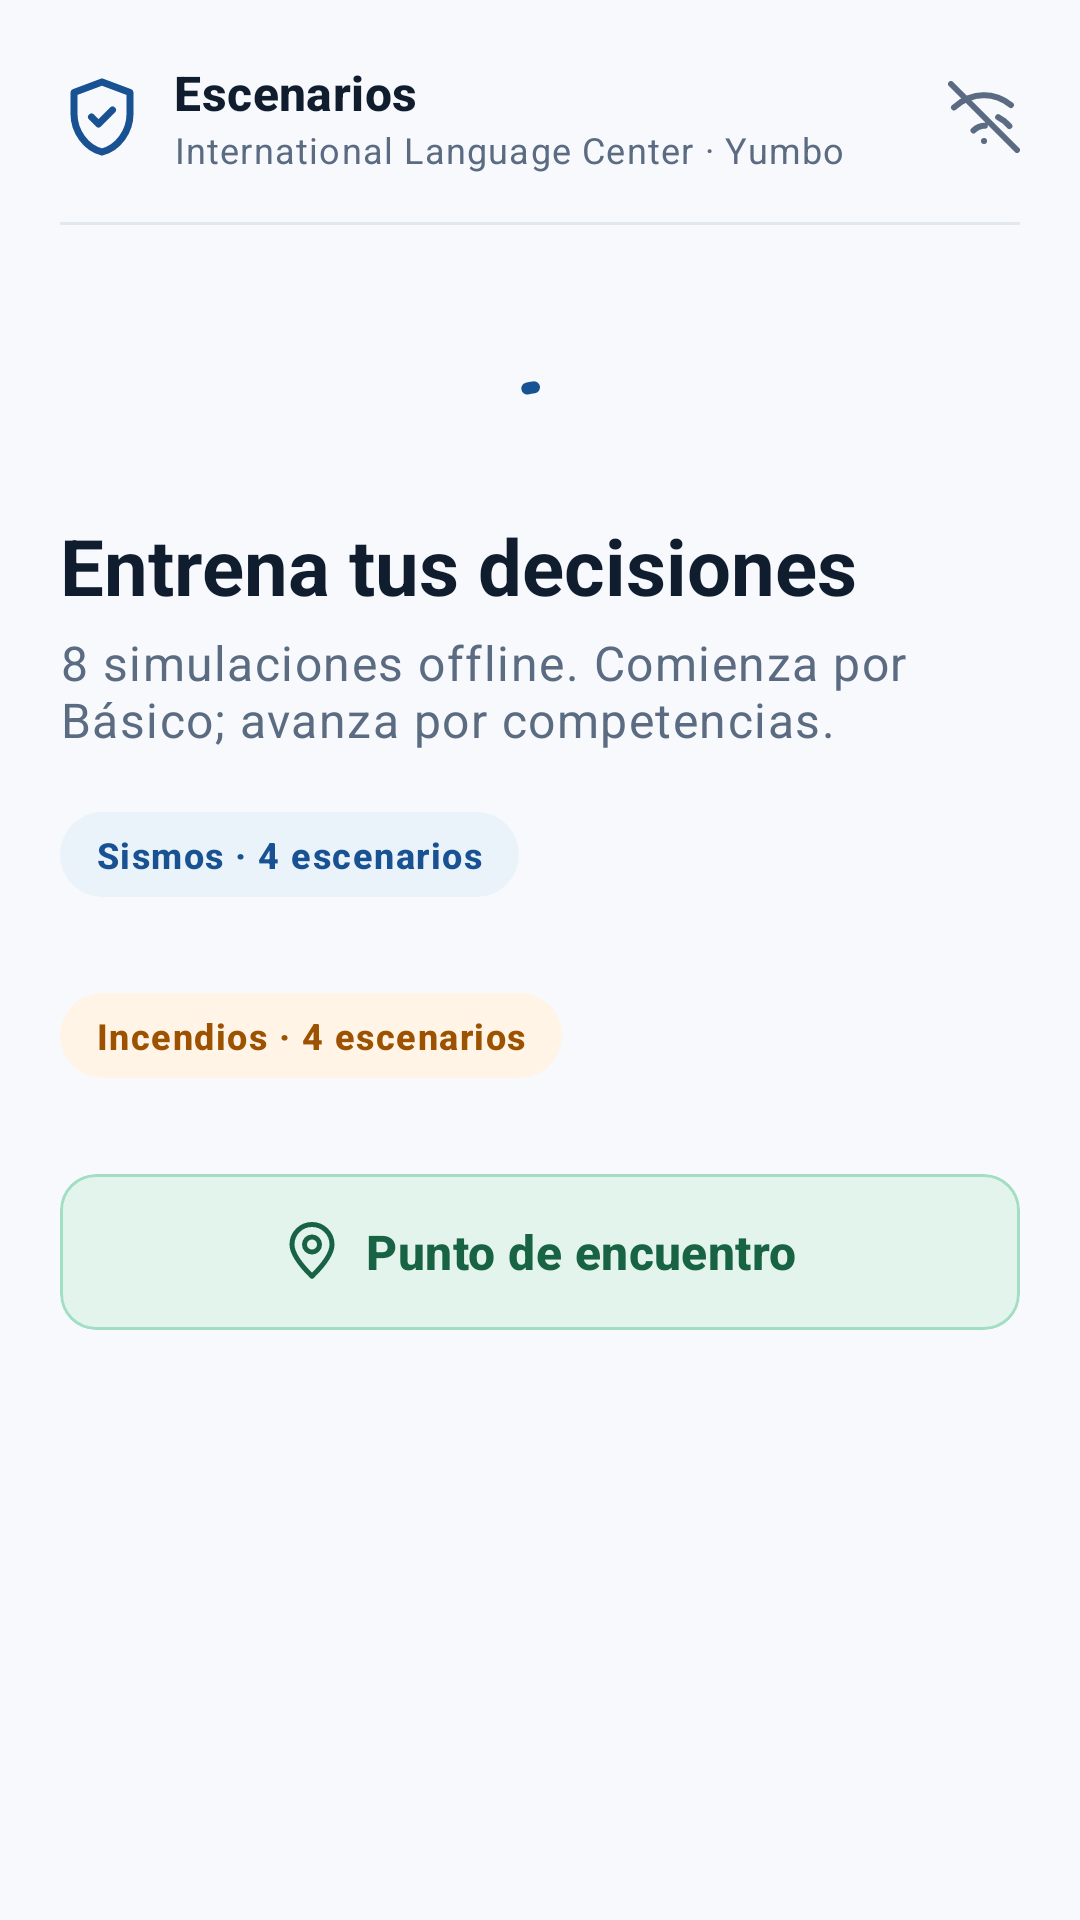

Named icons in this screenshot (1080*1920) and their bounding boxes, [x1, y1, x2, y2]:
Entrenamiento sin internet: [948, 81, 1020, 153]
